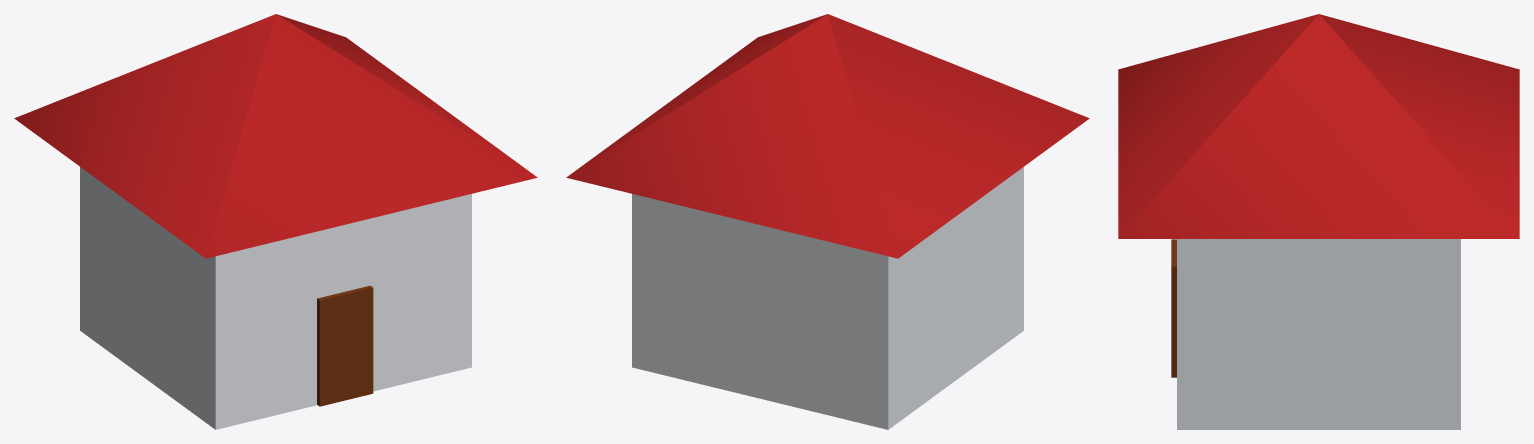
The model's file is house.glb.
3 views of the same model, side by side, from view 1: azimuth 30°, elevation 25°; view 2: azimuth 150°, elevation 25°; view 3: azimuth 270°, elevation 25° (orthographic). The views are drawn at different scales.
Size of the model in its own units: 3.11 by 3 by 3.11.
